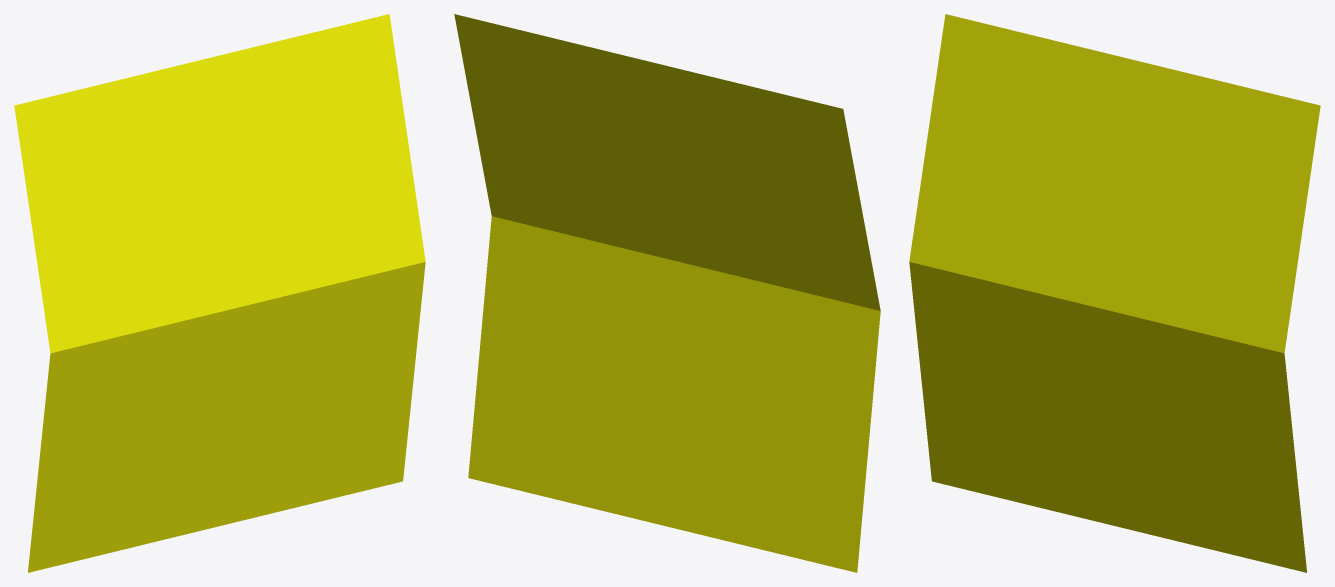
File: Foliage_Ivy_SmallClump1.glb
3 renders of one model, left to right at view 1: azimuth 30°, elevation 25°; view 2: azimuth 150°, elevation 25°; view 3: azimuth 330°, elevation 25°, orthographic. The views are drawn at different scales.
Parts seen in each view (by area): view 1: SmallClump; view 2: SmallClump; view 3: SmallClump.
Part boxes in pixels (box(x1,y1,x2,y2)): SmallClump: box(14, 14, 425, 572); SmallClump: box(454, 14, 880, 572); SmallClump: box(909, 14, 1320, 572).
Bounding box in the file's own units: 0.5053 × 0.5887 × 0.0842.
Materials: 1 (1 with a texture image).
